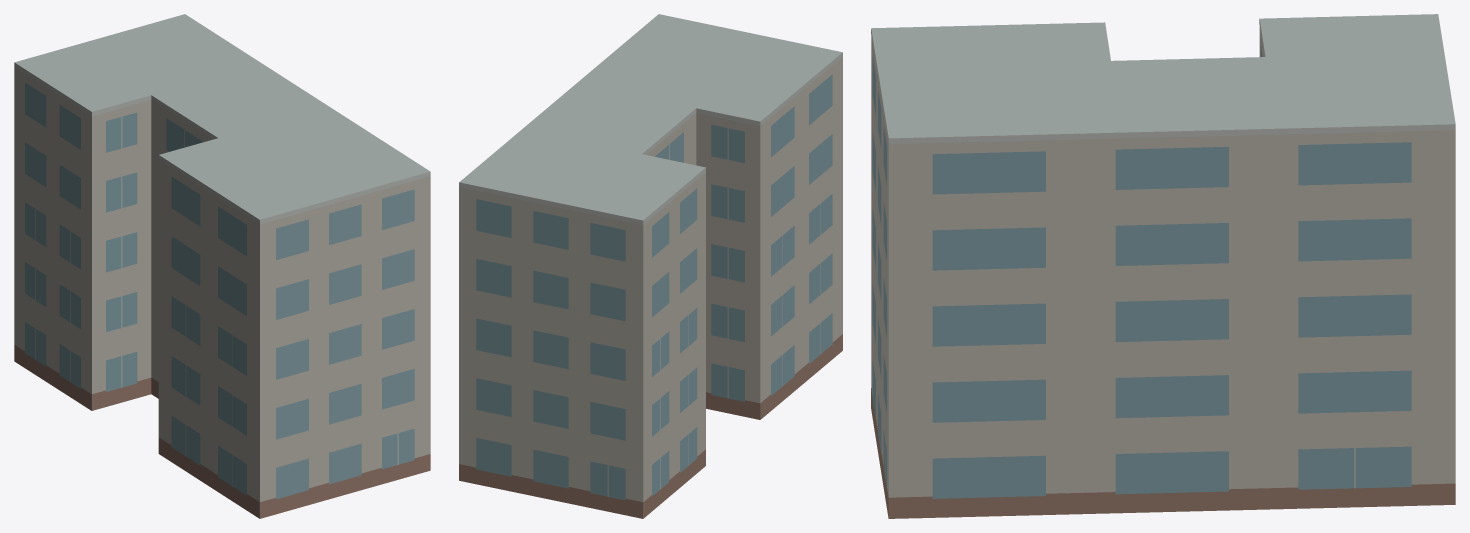
The model's file is survey-upis-32673261.glb.
3 views of the same model, side by side, from view 1: azimuth 30°, elevation 25°; view 2: azimuth 150°, elevation 25°; view 3: azimuth 270°, elevation 25° (orthographic). The views are drawn at different scales.
Parts seen in each view (by area): view 1: survey-upis-32673261.tmp; view 2: survey-upis-32673261.tmp; view 3: survey-upis-32673261.tmp.
Boxes of the visible parts, x1,y1,x2,y2 form: survey-upis-32673261.tmp: (14,14,430,518); survey-upis-32673261.tmp: (459,14,842,518); survey-upis-32673261.tmp: (871,14,1455,518).
Size of the model in its own units: 11.09 by 15.8 by 22.01.
